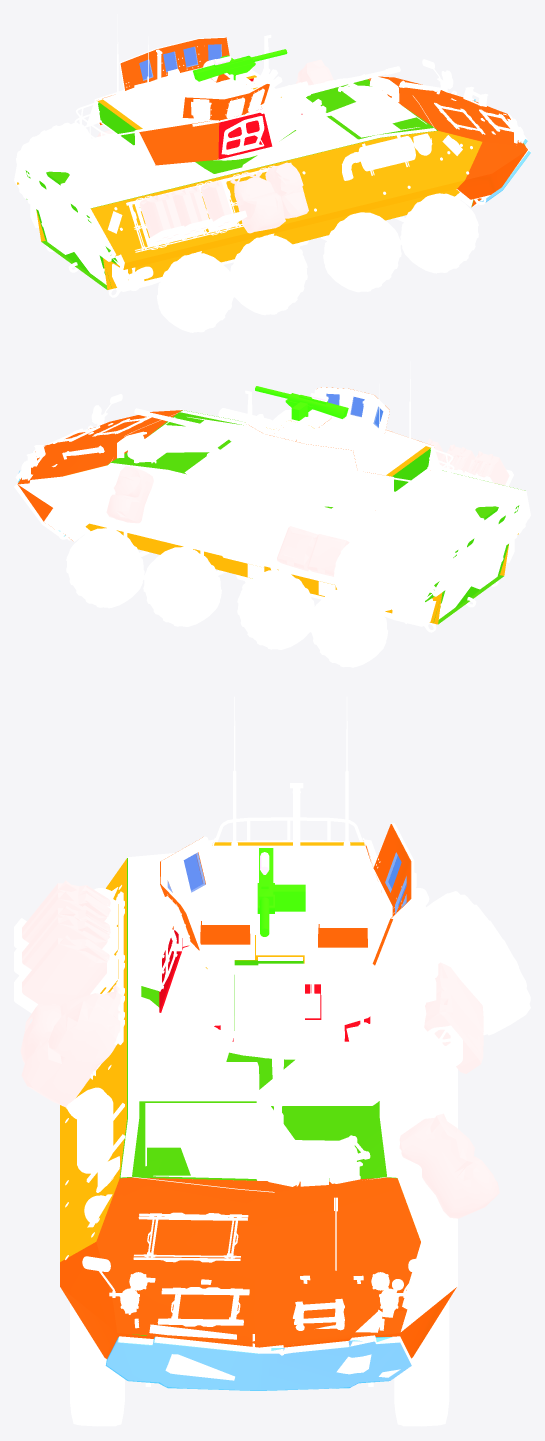
Rendered from LAV25.gltf.
The picture shows the model from 3 angles, top to bottom: view 1: azimuth 30°, elevation 25°; view 2: azimuth 150°, elevation 25°; view 3: azimuth 270°, elevation 25°; orthographic projection. The views are drawn at different scales.
Parts seen in each view (by area): view 1: 25001, 25001_2, LAV25_Col001_1, 25001_5, 25001_3, LAV25_Turret_Col001_3, LAV25_Col001_2, LAV25_Col001, LAV25_Col001_3, LAV25_Turret_Col001_1, 25001_4, Pintle_M240G_Weapon_Col001_1 (+3 smaller); view 2: 25001, 25001_2, 25001_5, 25001_3, LAV25_Col001_2, LAV25_Col001, LAV25_Col001_1, Pintle_M240G_Weapon_Col001_1, 25001_4, 25001_6, LAV25_Turret_Col001, LAV25_Turret_Col001_4 (+1 smaller); view 3: 25001, 25001_5, LAV25_Col001_2, 25001_3, 25001_2, LAV25_WaterShield_Col_113, LAV25_Col001, LAV25_Col001_1, 25001_4, LAV25_Col001_3, LAV25_Turret_Col001_3, Pintle_M240G_Weapon_Col001_1 (+3 smaller).
Part boxes in pixels (x1,y1,x2,y2): 25001: (14, 59, 530, 297); 25001_2: (16, 122, 478, 332); LAV25_Col001_1: (17, 131, 482, 289); 25001_5: (74, 14, 326, 164); 25001_3: (97, 59, 333, 241); LAV25_Turret_Col001_3: (99, 37, 269, 165); LAV25_Col001_2: (368, 76, 527, 149); LAV25_Col001: (25, 79, 524, 289); LAV25_Col001_3: (457, 142, 527, 206); LAV25_Turret_Col001_1: (218, 78, 302, 159); 25001_4: (253, 66, 400, 106); Pintle_M240G_Weapon_Col001_1: (193, 49, 287, 81); 25001: (14, 394, 530, 632); 25001_2: (66, 528, 413, 667); 25001_5: (205, 361, 454, 511); 25001_3: (106, 438, 509, 576); LAV25_Col001_2: (18, 410, 182, 483); LAV25_Col001: (107, 410, 525, 624); LAV25_Col001_1: (65, 465, 518, 624); Pintle_M240G_Weapon_Col001_1: (255, 386, 348, 420); 25001_4: (134, 408, 286, 445); 25001_6: (252, 394, 382, 466); LAV25_Turret_Col001: (392, 448, 430, 491); LAV25_Turret_Col001_4: (326, 393, 383, 427); 25001: (14, 853, 462, 1389); 25001_5: (137, 696, 438, 1063); LAV25_Col001_2: (96, 1177, 420, 1347); 25001_3: (20, 880, 499, 1218); 25001_2: (70, 891, 530, 1426); LAV25_WaterShield_Col_113: (105, 1337, 411, 1390); LAV25_Col001: (119, 858, 397, 1335); LAV25_Col001_1: (60, 858, 418, 1261); 25001_4: (235, 963, 304, 1132); LAV25_Col001_3: (60, 1242, 456, 1358); LAV25_Turret_Col001_3: (160, 824, 411, 965); Pintle_M240G_Weapon_Col001_1: (257, 848, 305, 936).
Bounding box in the file's own units: 6.39 × 3.56 × 3.38.
